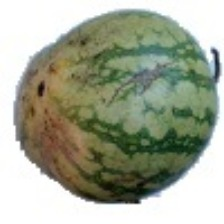watermelon: (15, 35, 209, 212)
